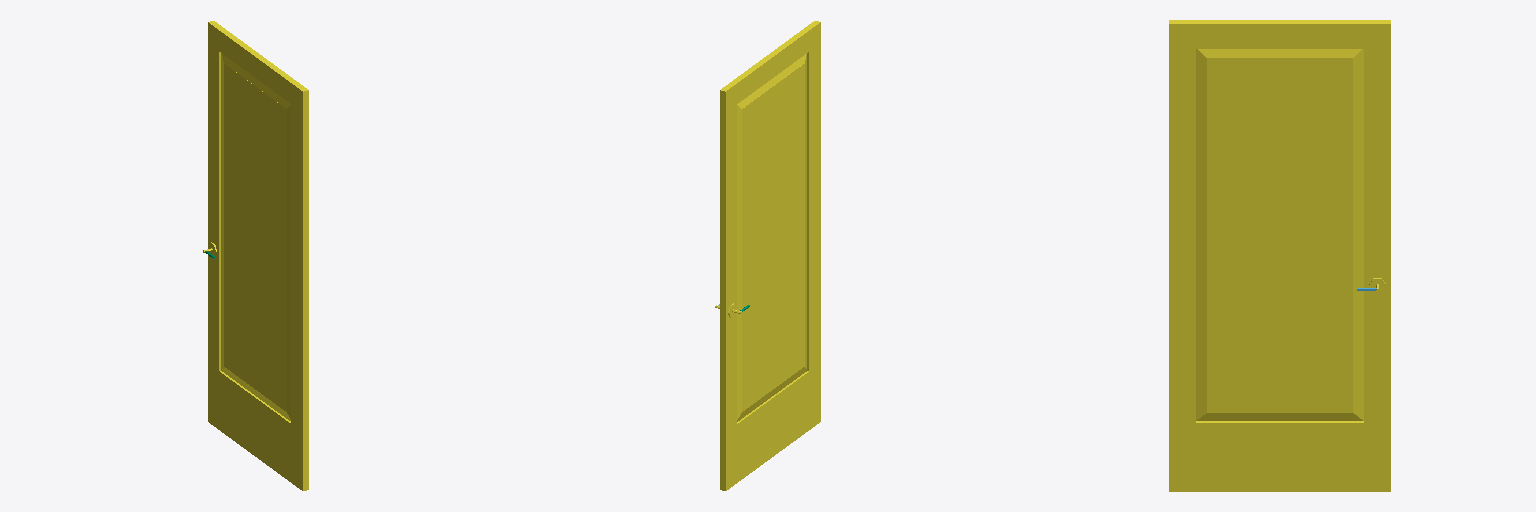
URDF robot description (partnet_157d99a639b9b9aa5dd29c13c4b9a983):
<?xml version="1.0" ?>
<robot name="partnet_157d99a639b9b9aa5dd29c13c4b9a983">
	<link name="base"/>
	<link name="link_0">
		<visual name="movable_part-10">
			<origin xyz="0.3490552488083982 0.10823772994325659 0.0601550000000004"/>
			<geometry>
				<mesh filename="textured_objs/original-3.obj"/>
			</geometry>
		</visual>
		<collision>
			<origin xyz="0.3490552488083982 0.10823772994325659 0.0601550000000004"/>
			<geometry>
				<mesh filename="textured_objs/original-3.obj"/>
			</geometry>
		</collision>
	</link>
	<joint name="joint_0" type="revolute">
		<origin xyz="-0.3490552488083982 -0.10823772994325659 -0.0601550000000004"/>
		<axis xyz="0 0 -1"/>
		<child link="link_0"/>
		<parent link="link_2"/>
		<limit lower="-0.0" upper="1.5707963267948966"/>
	</joint>
	<link name="link_1">
		<visual name="movable_part-6">
			<origin xyz="0.3490552488083982 0.10823772994325659 0.0601550000000004"/>
			<geometry>
				<mesh filename="textured_objs/original-2.obj"/>
			</geometry>
		</visual>
		<collision>
			<origin xyz="0.3490552488083982 0.10823772994325659 0.0601550000000004"/>
			<geometry>
				<mesh filename="textured_objs/original-2.obj"/>
			</geometry>
		</collision>
	</link>
	<joint name="joint_1" type="revolute">
		<origin xyz="-0.3490552488083982 -0.10823772994325659 -0.0601550000000004"/>
		<axis xyz="0 0 -1"/>
		<child link="link_1"/>
		<parent link="link_2"/>
		<limit lower="-0.0" upper="1.5707963267948966"/>
	</joint>
	<link name="link_2">
		<visual name="surface_board-11">
			<origin xyz="0 0 0"/>
			<geometry>
				<mesh filename="textured_objs/new-2.obj"/>
			</geometry>
		</visual>
		<visual name="fixed_part-9">
			<origin xyz="0 0 0"/>
			<geometry>
				<mesh filename="textured_objs/new-1.obj"/>
			</geometry>
		</visual>
		<visual name="fixed_part-5">
			<origin xyz="0 0 0"/>
			<geometry>
				<mesh filename="textured_objs/new-0.obj"/>
			</geometry>
		</visual>
		<collision>
			<origin xyz="0 0 0"/>
			<geometry>
				<mesh filename="textured_objs/new-2.obj"/>
			</geometry>
		</collision>
		<collision>
			<origin xyz="0 0 0"/>
			<geometry>
				<mesh filename="textured_objs/new-1.obj"/>
			</geometry>
		</collision>
		<collision>
			<origin xyz="0 0 0"/>
			<geometry>
				<mesh filename="textured_objs/new-0.obj"/>
			</geometry>
		</collision>
	</link>
	<joint name="joint_2" type="fixed">
		<origin rpy="1.570796326794897 0 -1.570796326794897" xyz="0 0 0"/>
		<child link="link_2"/>
		<parent link="base"/>
	</joint>
</robot>

--- Facts derived from the render (not from the file) ---
The picture shows the robot from 3 angles, left to right: view 1: azimuth 30°, elevation 25°; view 2: azimuth 150°, elevation 25°; view 3: azimuth 270°, elevation 25°; orthographic projection.
Robot: partnet_157d99a639b9b9aa5dd29c13c4b9a983 — 4 links, 3 joints (2 revolute, 1 fixed); root link base; default pose: every joint at zero.
Visible links, largest first — view 1: link_2; view 2: link_2; view 3: link_2.
Boxes of the visible links, x1=… form: link_2: x1=203, y1=21, x2=308, y2=490; link_2: x1=715, y1=21, x2=820, y2=490; link_2: x1=1169, y1=20, x2=1390, y2=491.
Bounding box of the posed robot: 0.1248 × 0.7967 × 1.85 m (x, y, z).
5 mesh visuals loaded from 5 distinct referenced files (5 OBJ).